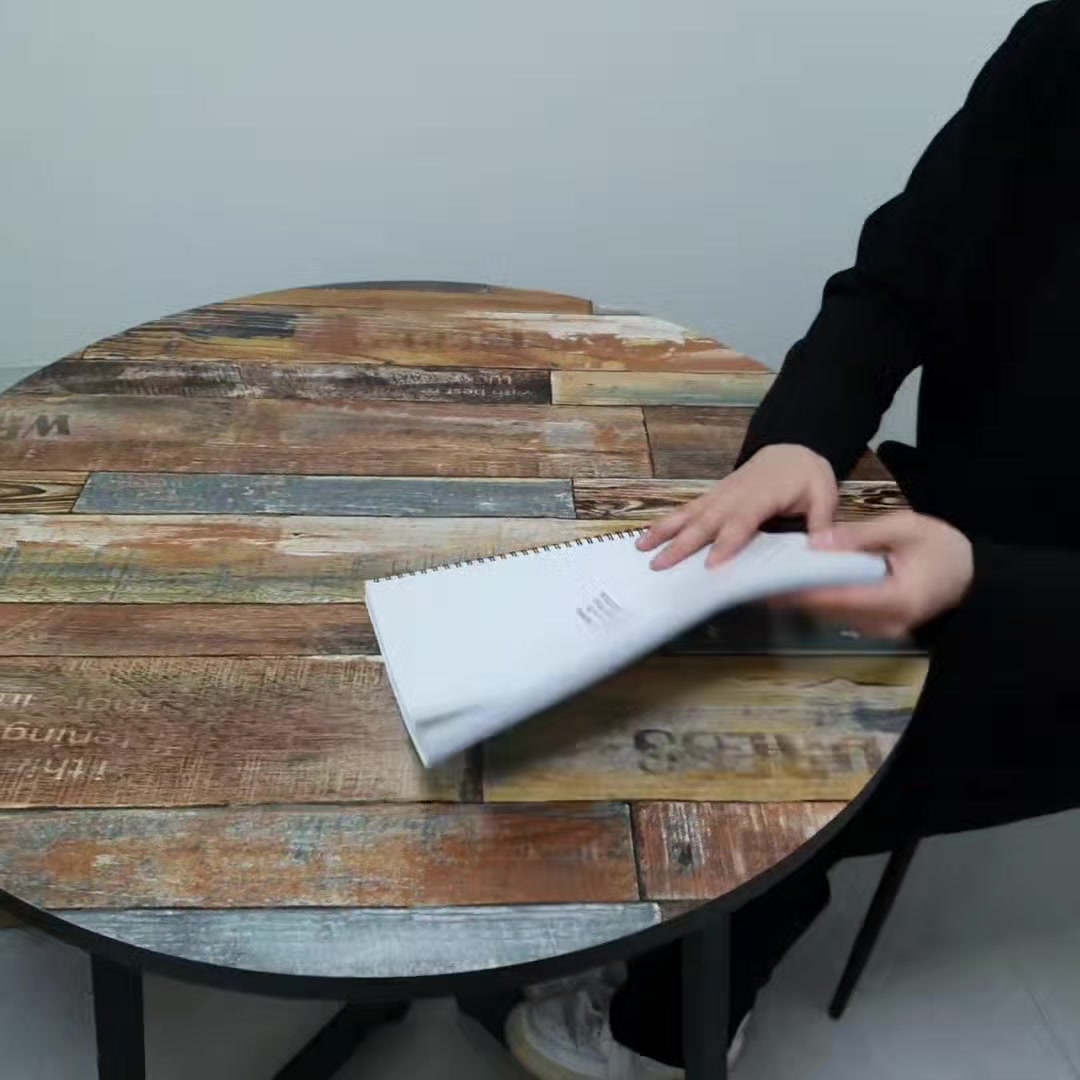book: (362, 465, 918, 791)
